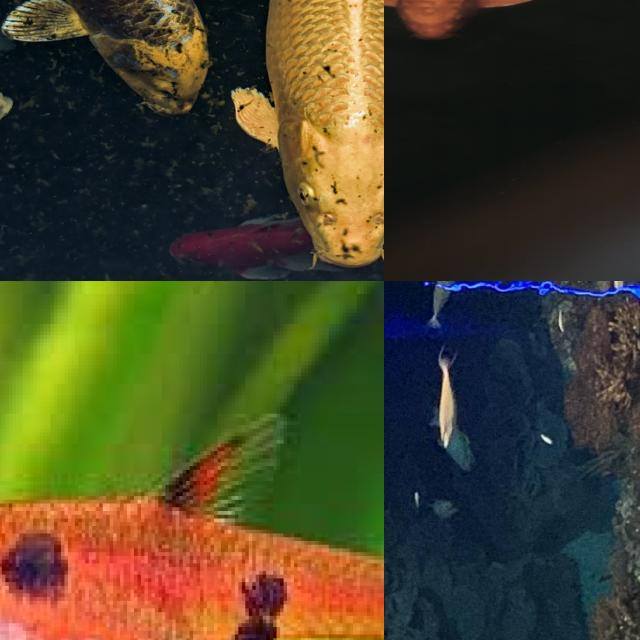fish: (0, 0, 384, 281), (0, 410, 384, 640)
